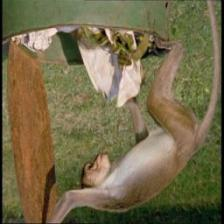monkey: (69, 139, 123, 212)
